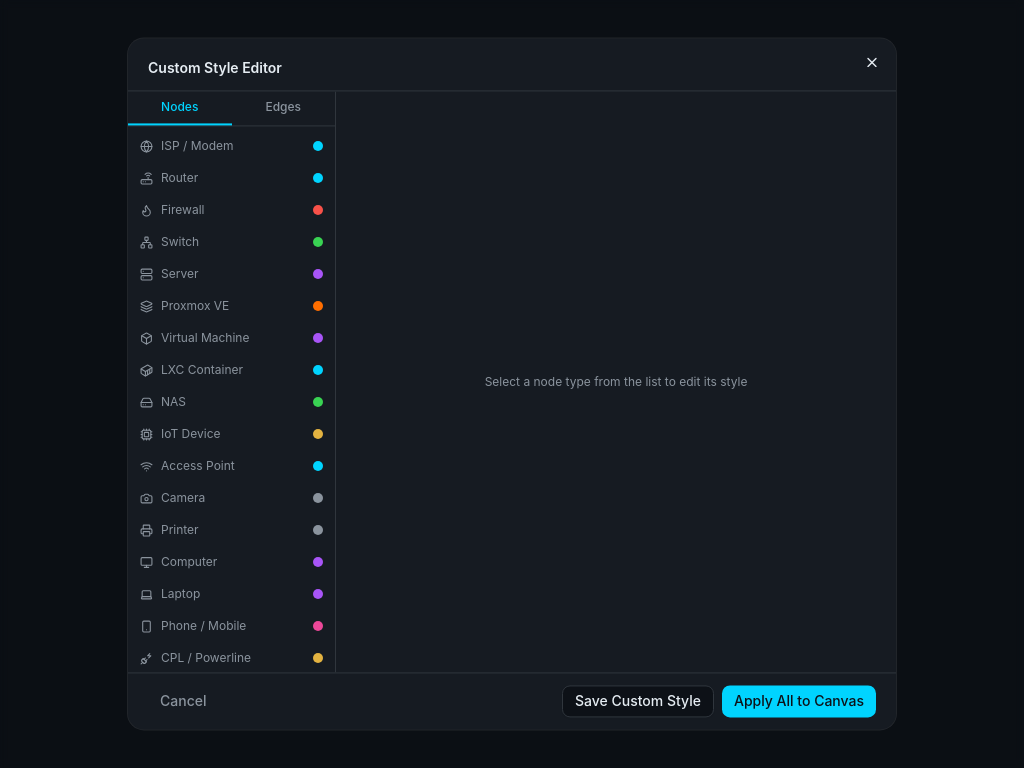
Test case: CustomStyleModal › selecting an edge type opens the edge editor with path style buttons
What coordinates should you click on to do the following:
click the button "Edges"
I would click on:
 (283, 108)
Its box is left=232, top=91, right=335, bottom=125.
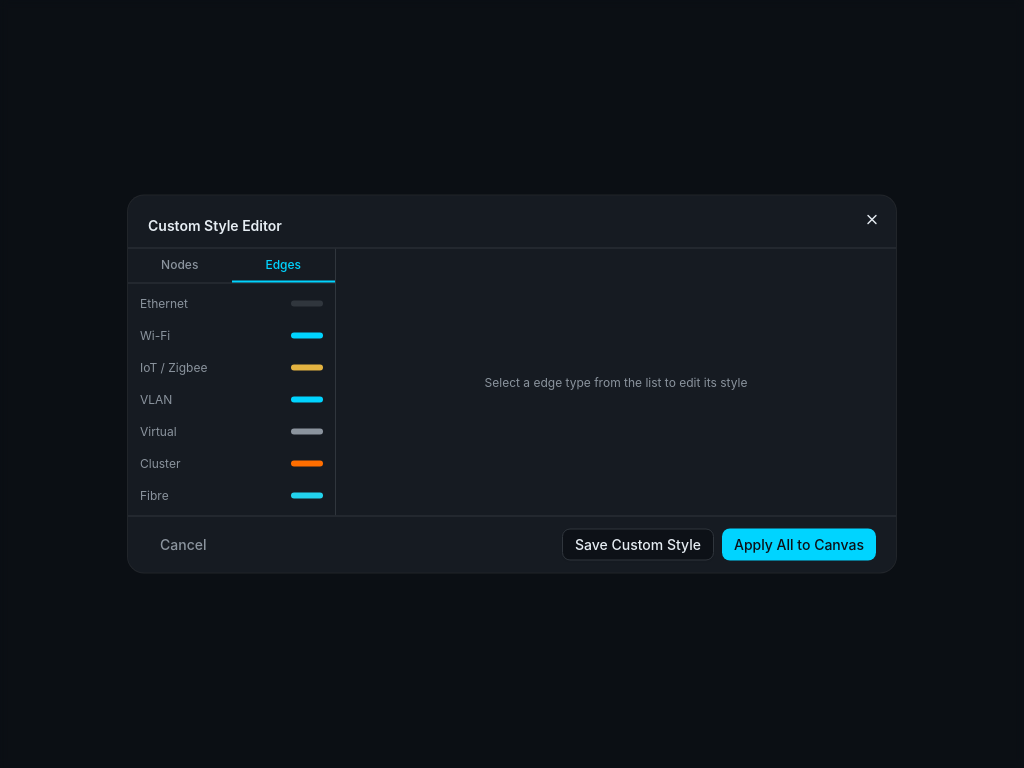
What coordinates should you click on to do the following:
click the button "Ethernet"
I would click on:
 (232, 304)
Its box is left=128, top=288, right=335, bottom=320.
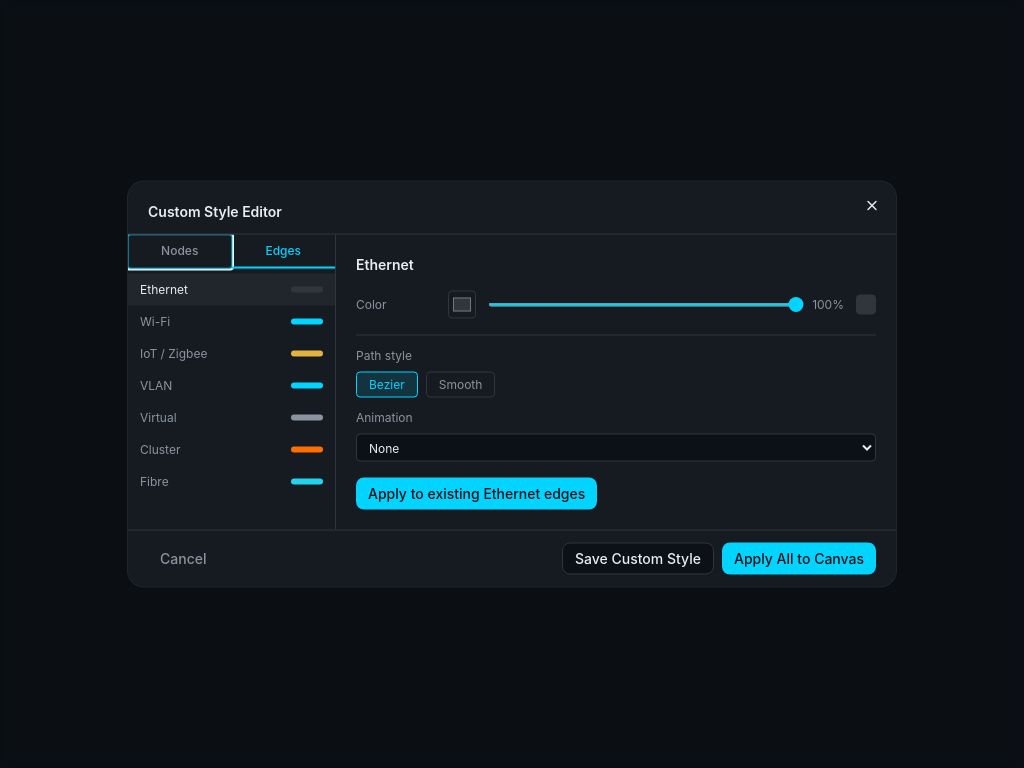
Expected: the button "Bezier" is shown, left=356, top=372, right=418, bottom=398
Expected: the button "Smooth" is shown, left=426, top=372, right=495, bottom=398
